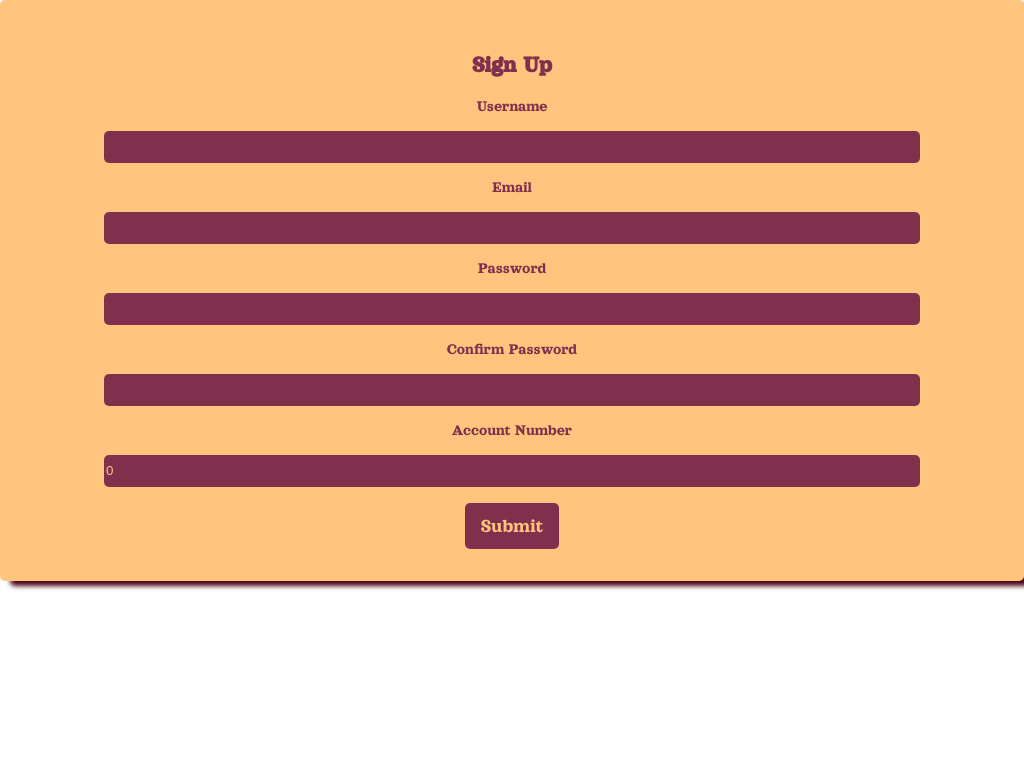
Test: <SignUp /> › sends data correctly on submit
In the field labelled "Username": [512, 147] box [104,131,920,163], type "Cool Guy"
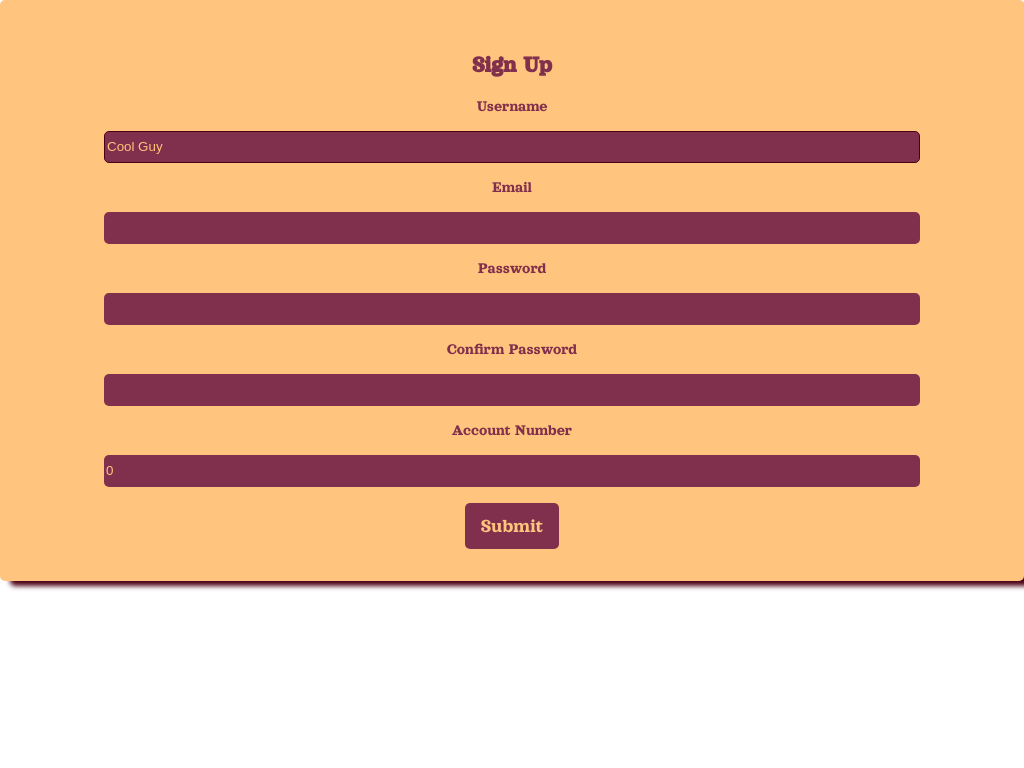
In the field labelled "Email": [512, 228] box [104,212,920,244], type "coolguy@coolguy.com"
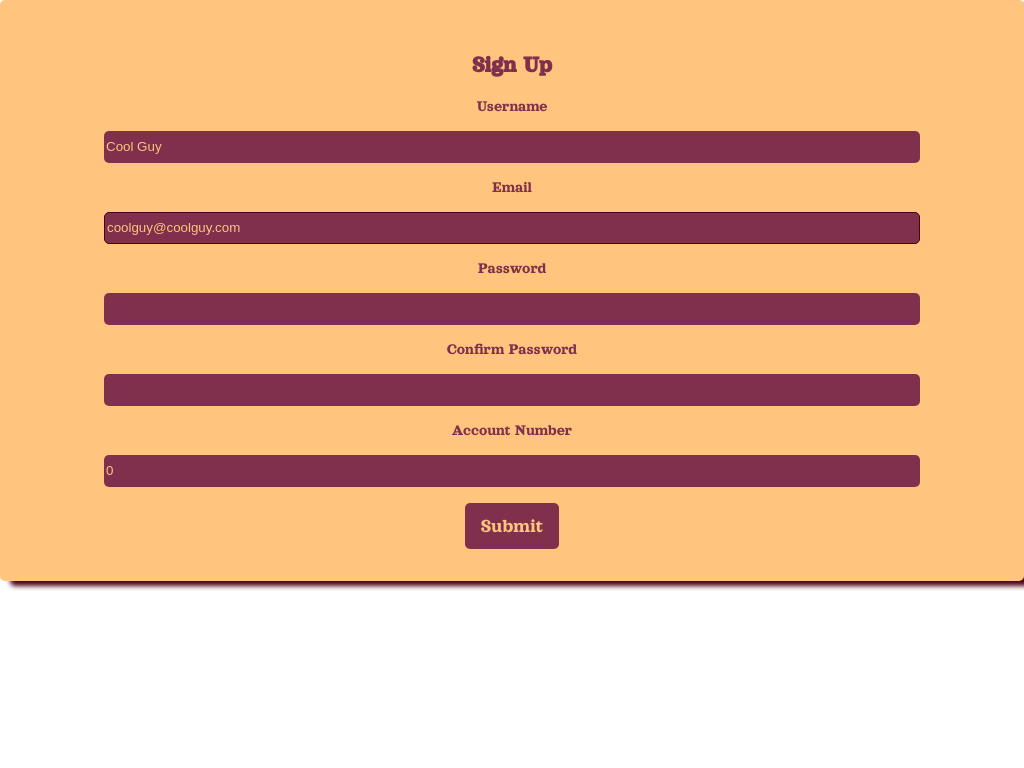
In the password field labelled "Password": [512, 309] box [104,293,920,325], type "supersecretpassword"
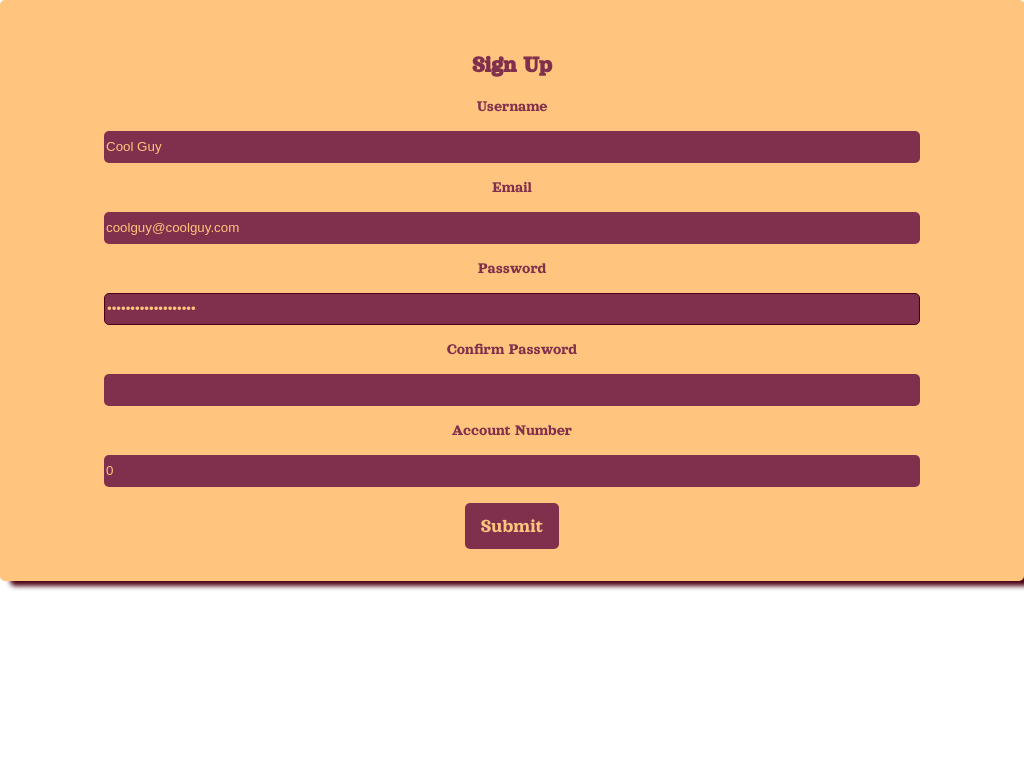
Click the button "Submit": [512, 526] box [465,503,559,549]
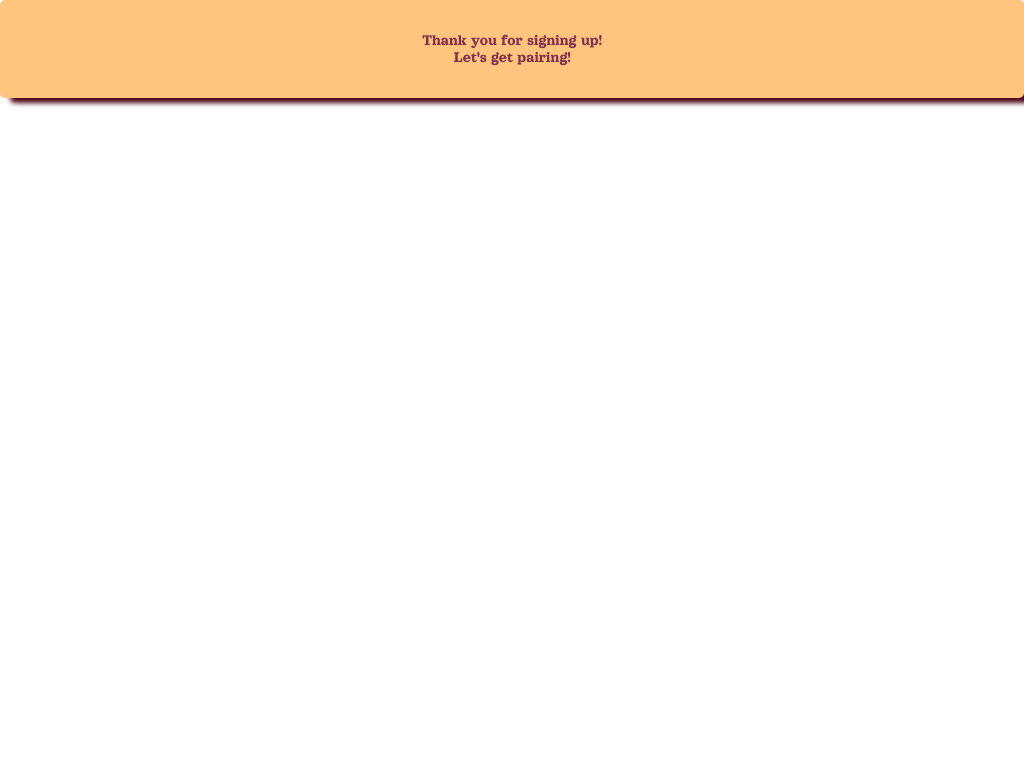
Expected: the text "Thank you for signing up! Let's get pairing!" is shown, [0,0,1023,98]
